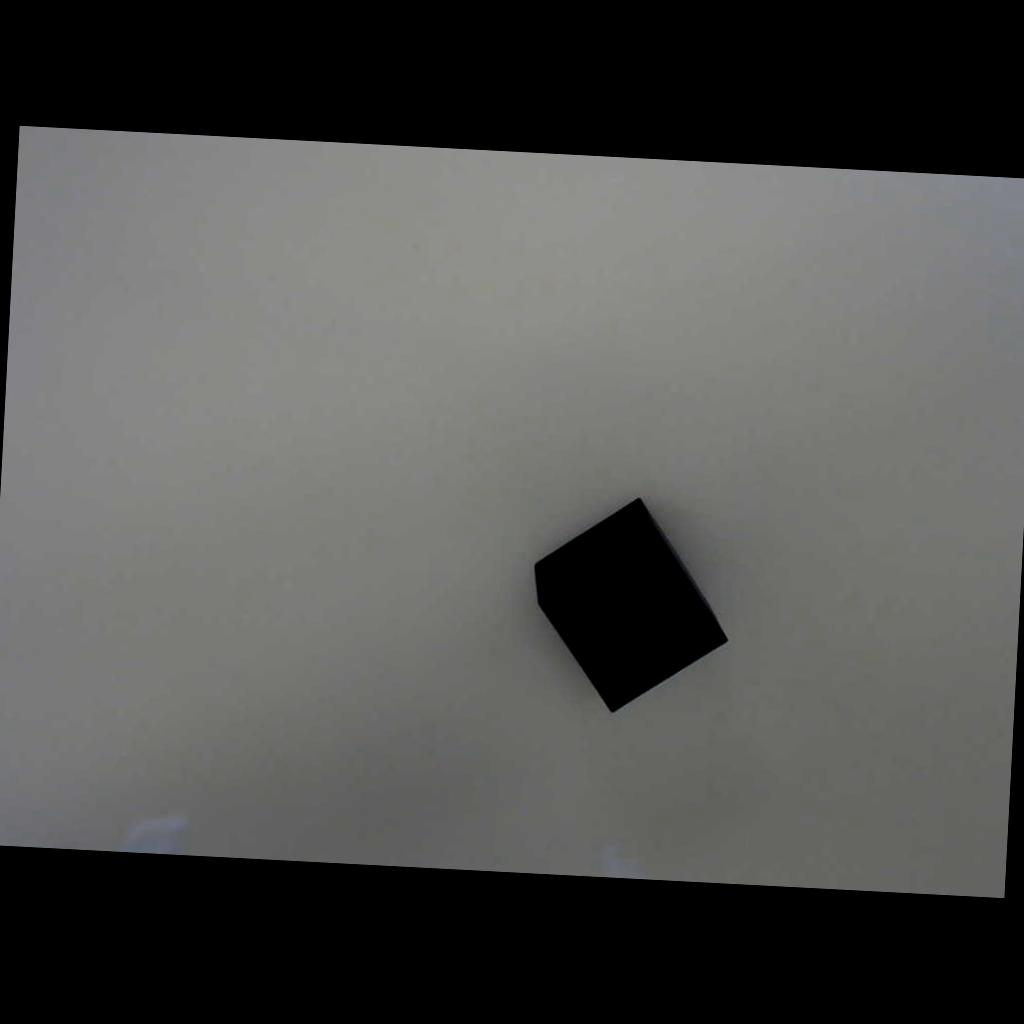square: (490, 467, 759, 746)
